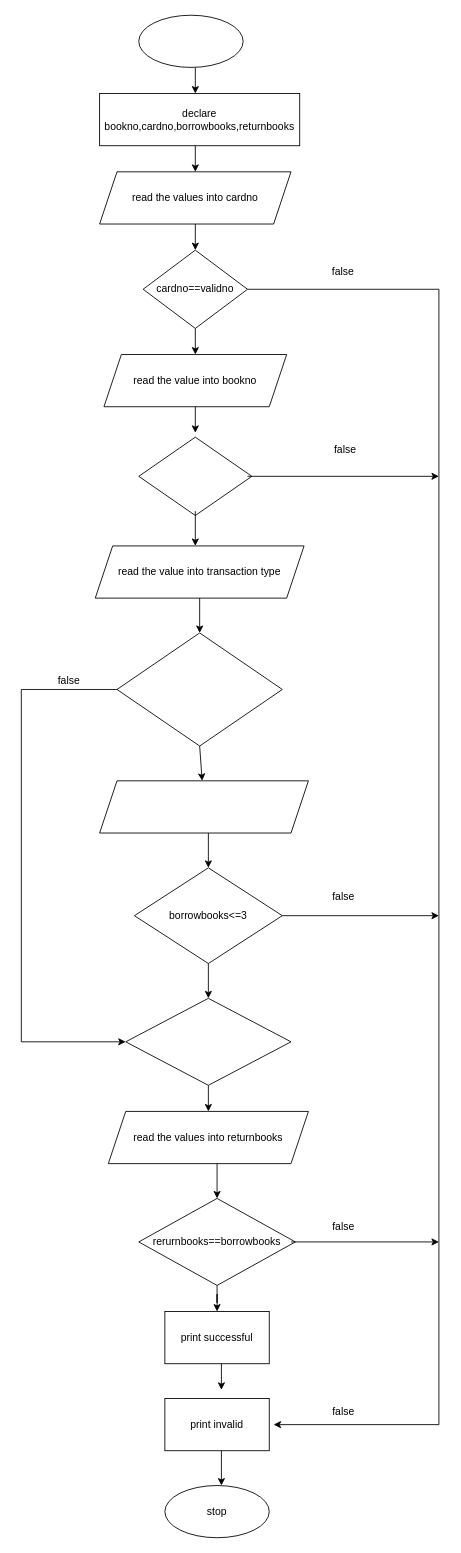
Image size: 461x1553. Some labels were removed from this diagram. Here are the shapes that lost their labels. From the top down, the centre of each, then its label:
point (190, 40): start
point (195, 475): bookno==validno
point (199, 689): transacion type==borrowbooks
point (203, 806): read the values into borrowbooks
point (208, 1041): transasctin type==returnbooks
